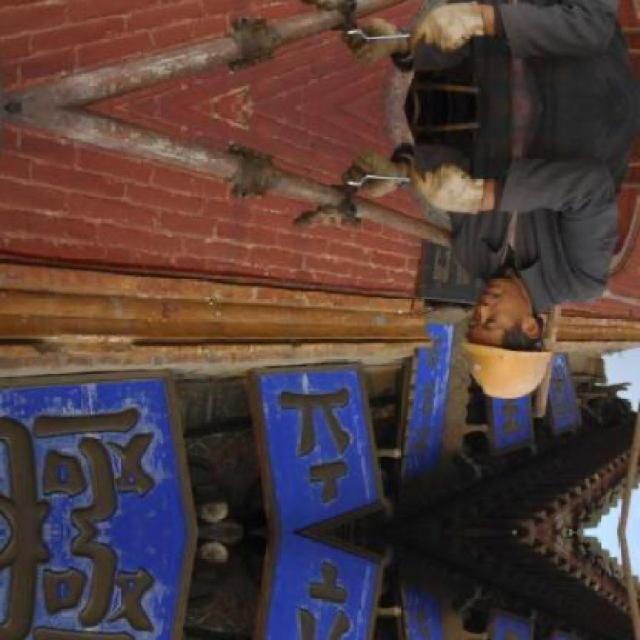con casco: (443, 282, 553, 416)
